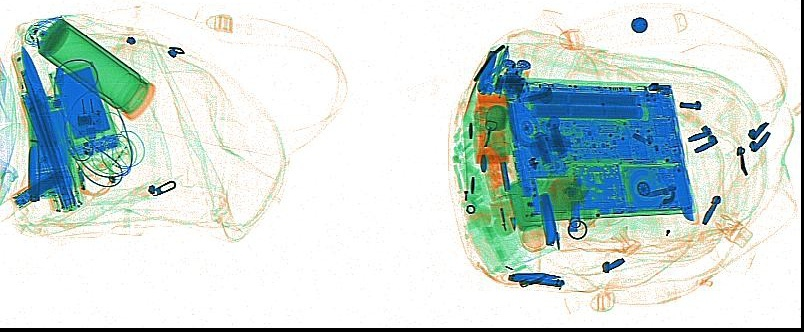knife: (18, 45, 50, 115), (673, 163, 699, 225), (539, 192, 557, 246), (26, 145, 42, 202), (507, 271, 564, 286)
